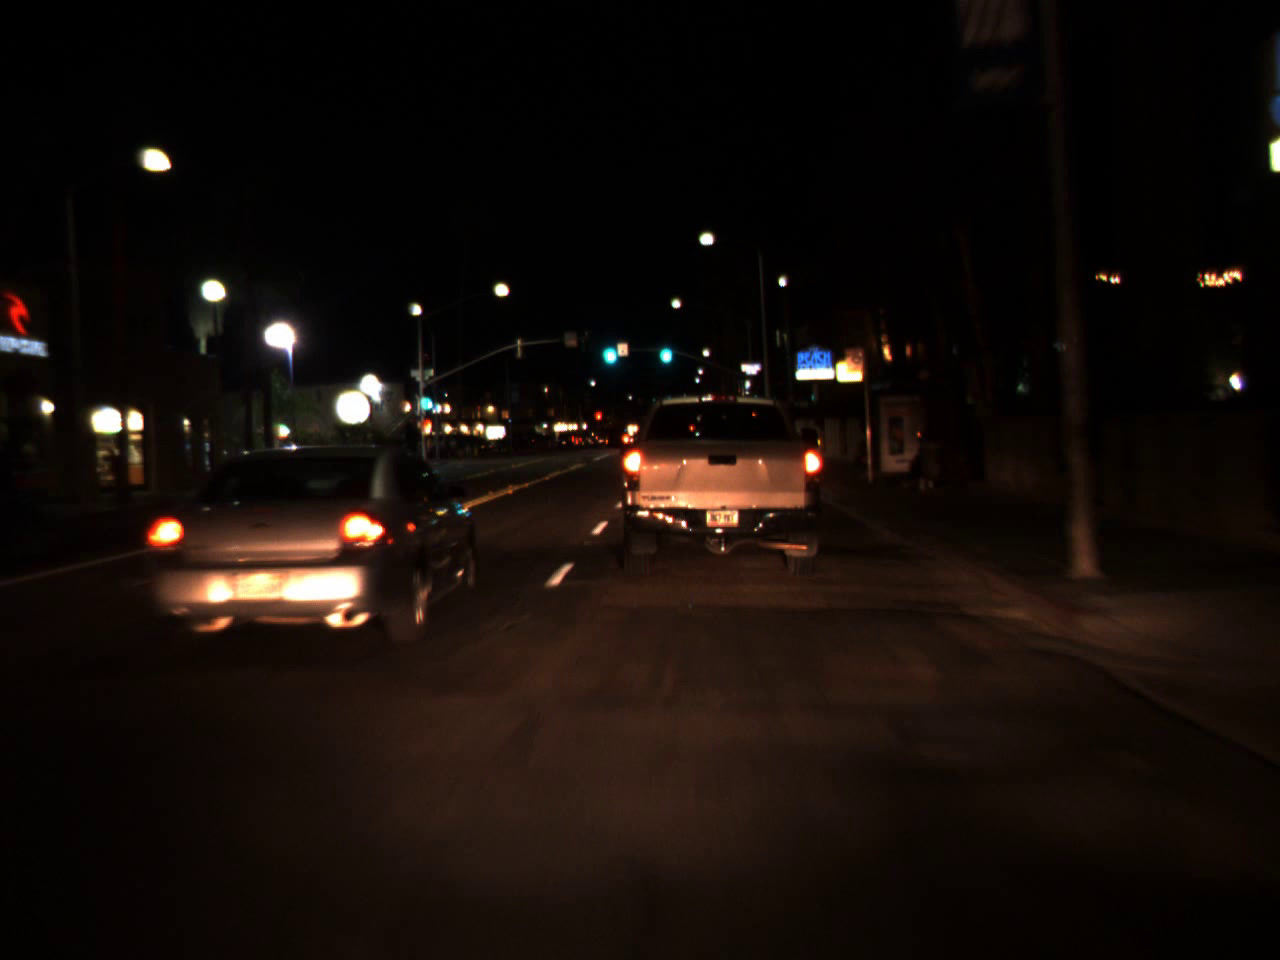go: (598, 328, 619, 370), (654, 329, 675, 368), (414, 380, 435, 416)
